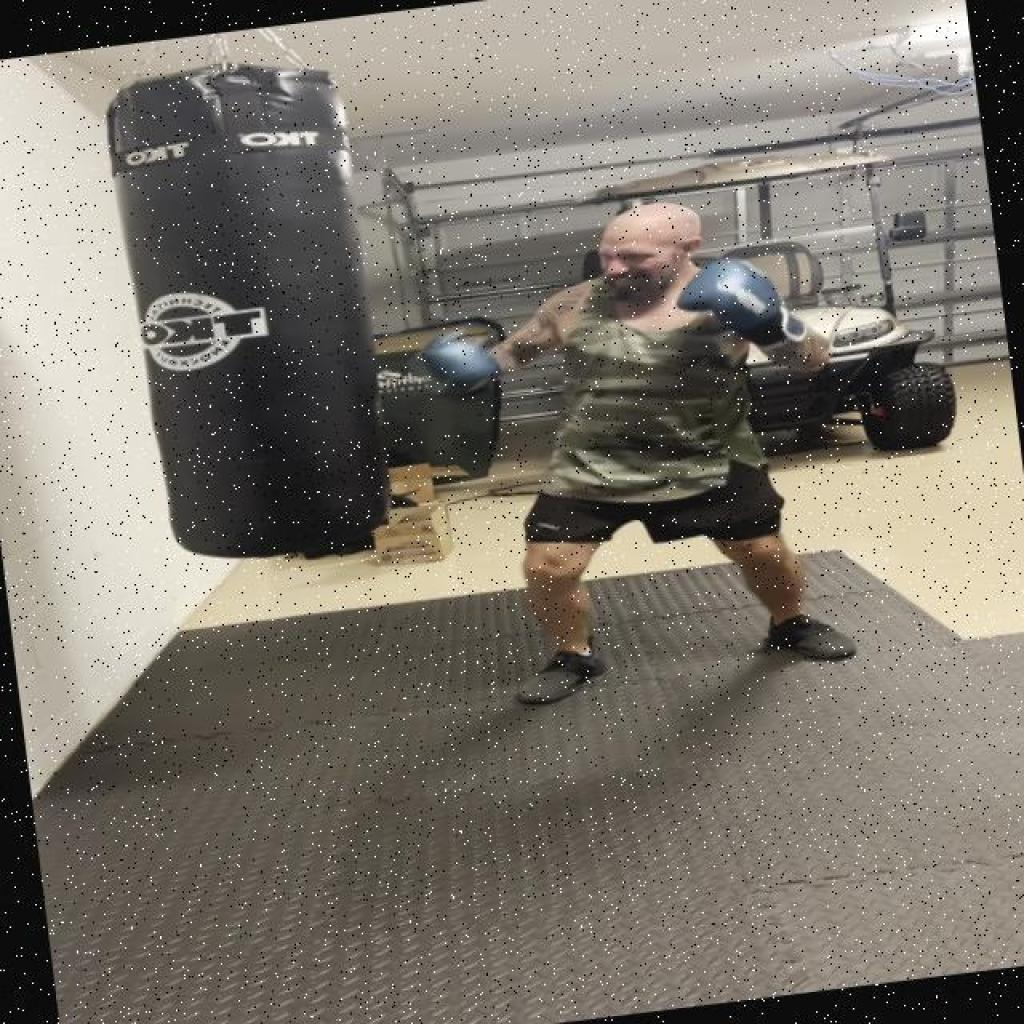bag: (98, 51, 410, 584)
hook: (323, 158, 818, 460)
